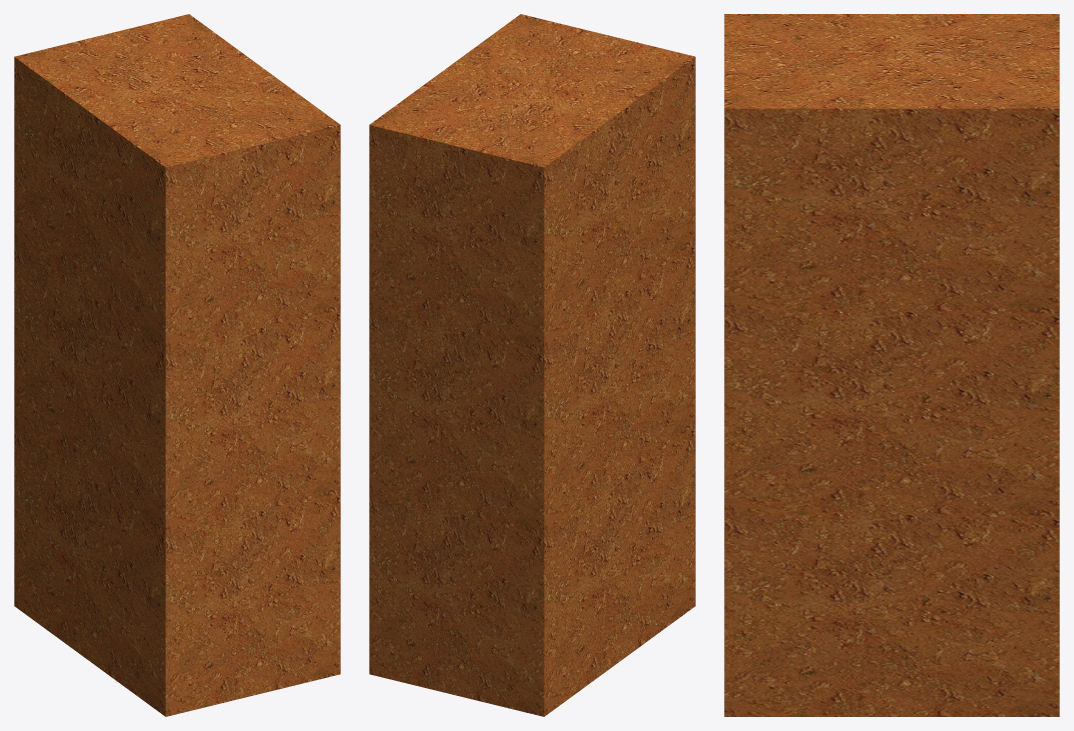
File: Wall-3.fbx
3 views of the same model, side by side, from view 1: azimuth 30°, elevation 25°; view 2: azimuth 150°, elevation 25°; view 3: azimuth 270°, elevation 25° (orthographic). The views are drawn at different scales.
Visible parts, largest first — view 1: Unit_Block18, Unit_Block17, Unit_Block16; view 2: Unit_Block18, Unit_Block17, Unit_Block16; view 3: Unit_Block18, Unit_Block17, Unit_Block16.
Boxes of the visible parts, left/top/right/bottom form: Unit_Block18: left=14, top=14, right=340, bottom=350; Unit_Block17: left=14, top=240, right=340, bottom=533; Unit_Block16: left=14, top=423, right=340, bottom=716; Unit_Block18: left=369, top=14, right=695, bottom=350; Unit_Block17: left=369, top=240, right=695, bottom=533; Unit_Block16: left=369, top=423, right=695, bottom=716; Unit_Block18: left=724, top=14, right=1059, bottom=311; Unit_Block17: left=724, top=311, right=1059, bottom=514; Unit_Block16: left=724, top=514, right=1059, bottom=716.
Bounding box in the file's own units: 2 × 6 × 3.
